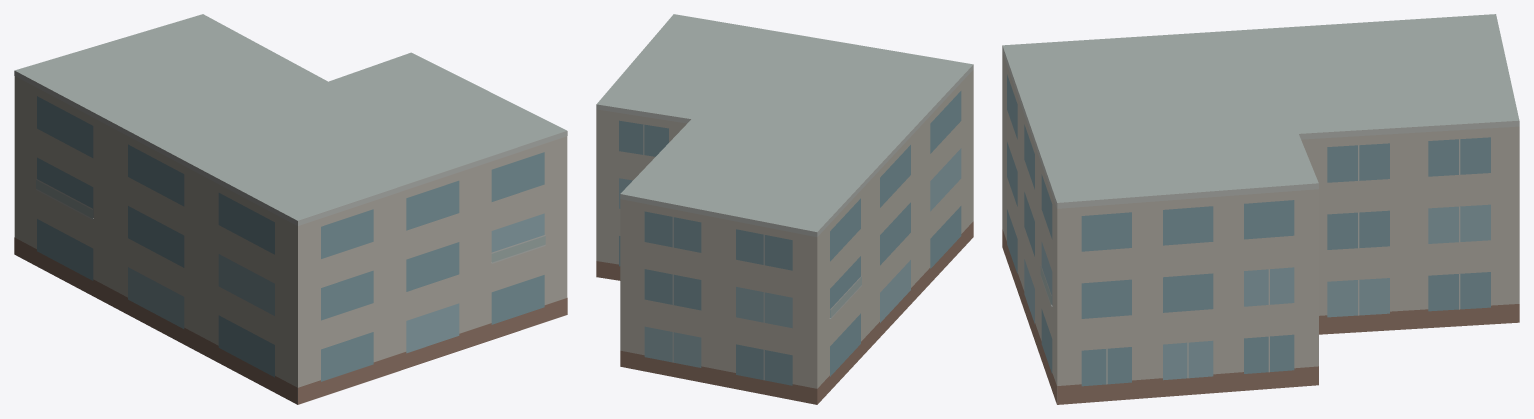
The model's file is survey-upis-32755005.glb.
3 renders of one model, left to right at view 1: azimuth 30°, elevation 25°; view 2: azimuth 150°, elevation 25°; view 3: azimuth 270°, elevation 25°, orthographic. The views are drawn at different scales.
Parts seen in each view (by area): view 1: survey-upis-32755005.tmp; view 2: survey-upis-32755005.tmp; view 3: survey-upis-32755005.tmp.
Part boxes in pixels (box(x1,y1,x2,y2)): survey-upis-32755005.tmp: box(14, 14, 567, 404); survey-upis-32755005.tmp: box(596, 14, 973, 404); survey-upis-32755005.tmp: box(1002, 14, 1519, 404).
Size of the model in its own units: 16.87 by 8.4 by 19.51.
